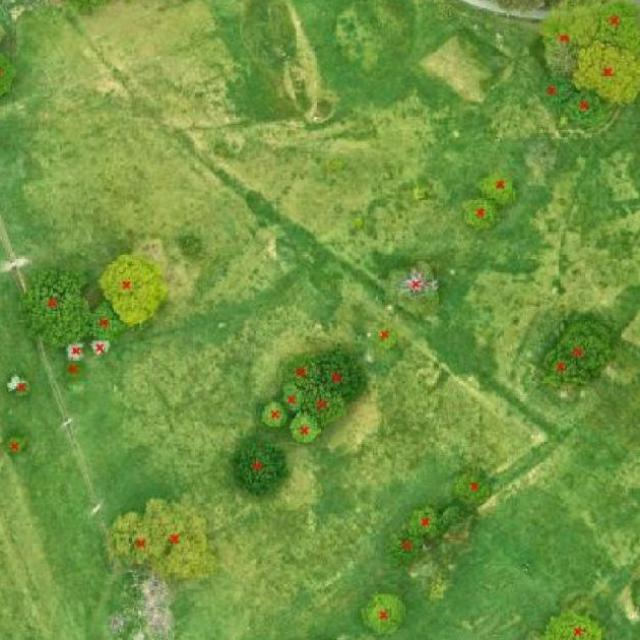tree: (16, 267, 98, 349), (143, 495, 215, 584), (98, 251, 166, 329), (572, 40, 640, 104), (544, 0, 598, 77), (232, 434, 286, 498), (102, 512, 158, 570), (558, 319, 614, 375), (385, 262, 437, 318), (319, 350, 367, 402), (594, 0, 640, 51), (281, 349, 325, 398), (541, 612, 608, 640), (382, 527, 426, 569), (362, 593, 404, 637), (543, 354, 590, 391), (563, 90, 604, 128), (305, 388, 345, 426), (88, 300, 123, 343), (477, 172, 517, 205), (453, 472, 493, 505), (460, 198, 499, 231), (539, 73, 572, 107), (404, 503, 436, 538), (287, 411, 320, 444), (0, 51, 20, 100), (486, 0, 554, 14), (258, 401, 290, 429), (4, 372, 32, 399), (279, 385, 302, 413), (61, 0, 114, 12), (373, 324, 396, 351), (89, 337, 112, 358), (62, 342, 85, 363), (5, 435, 26, 455), (62, 361, 84, 379), (409, 185, 427, 203)
